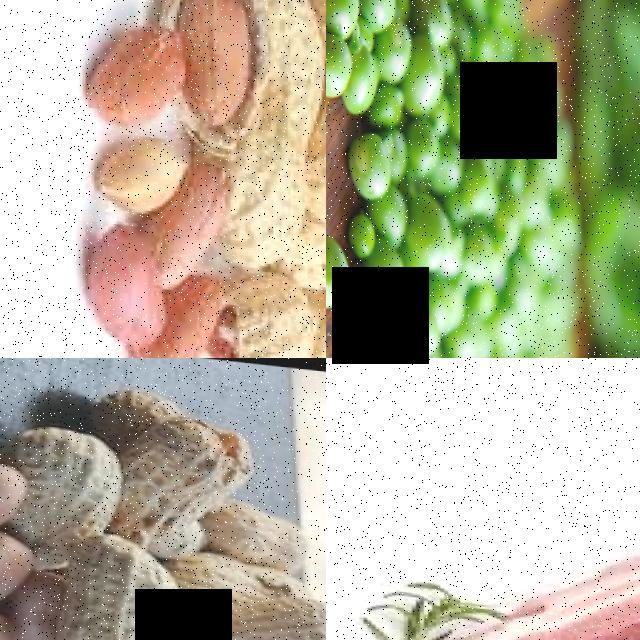peanuts: (118, 406, 237, 541), (62, 537, 187, 640), (78, 12, 189, 126), (17, 423, 126, 533), (82, 220, 165, 350), (88, 127, 192, 217), (212, 498, 321, 568), (186, 586, 326, 640), (0, 525, 32, 611), (0, 453, 30, 531)
peas: (326, 0, 486, 358)
pork belly: (489, 495, 640, 640)
